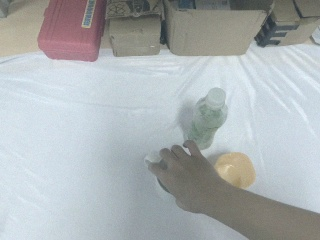bottle: (185, 88, 228, 151)
box: (163, 1, 274, 55), (255, 1, 320, 47)
cup: (212, 151, 259, 192)
